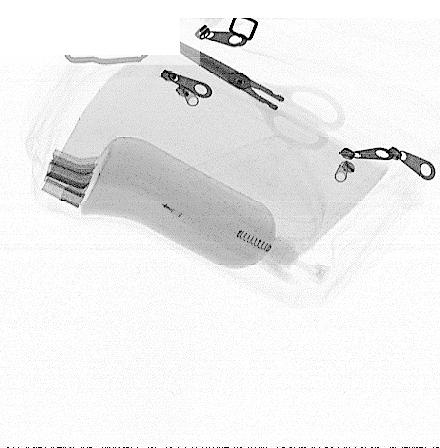Scissors: (179, 41, 347, 150)
